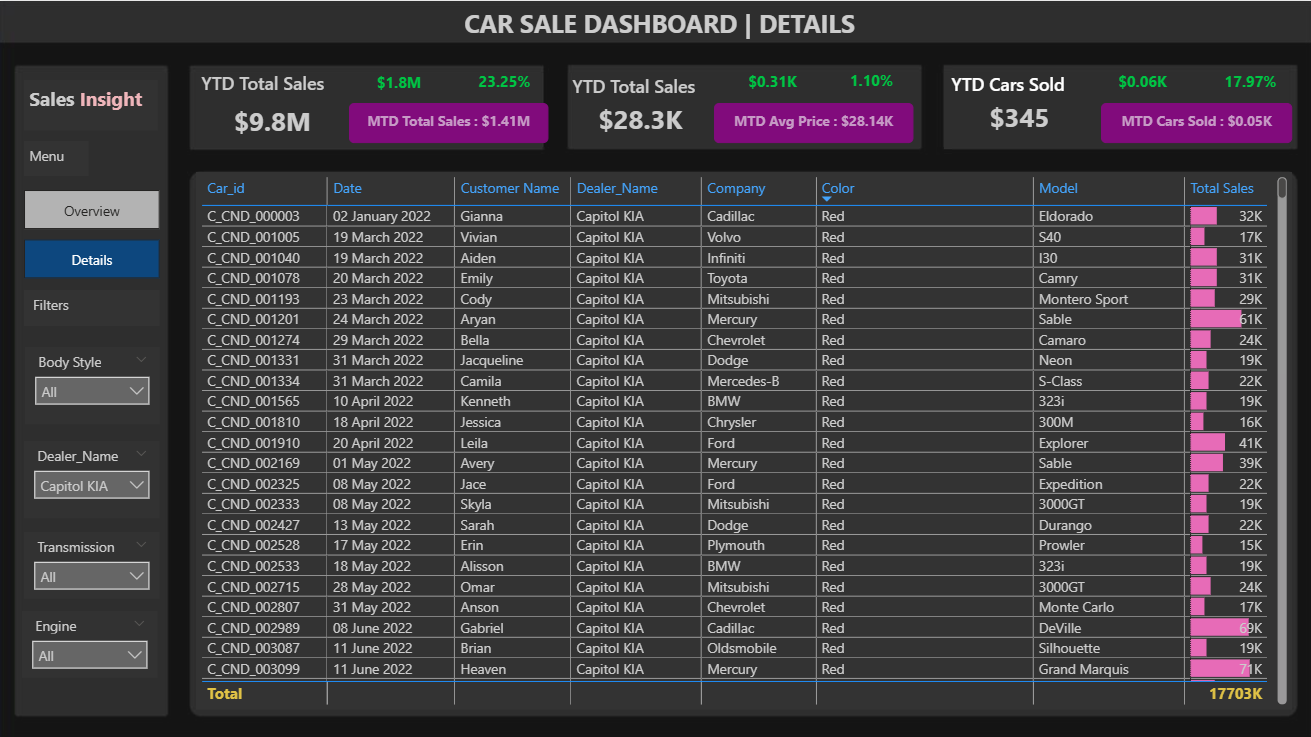

The page's visual inventory and layout, read from the dashboard file:
{"tool":"powerbi","page":{"name":"Details","canvas":[1280,720],"ordinal":1},"visuals":[{"type":"card","title":"YTD Total Sales","fields":{"Values":["car_data.YTD Total Sales"]},"box":[192.6,67.1,148.8,77.8],"z":0},{"type":"card","fields":{"Values":["car_data.Cars Sold Diff"]},"box":[1072.8,62.2,80.7,37],"z":1000},{"type":"card","fields":{"Values":["car_data.YoY Sales Growth"]},"box":[438.7,62.2,108,37],"z":2000},{"type":"card","fields":{"Values":["car_data.MTD KPI"]},"box":[341.4,99.2,193.6,38.9],"z":3000},{"type":"card","title":"YTD Total Sales","fields":{"Values":["car_data.YTD Avg Price"]},"box":[553.4,70,143,68.1],"z":4000},{"type":"card","fields":{"Values":["car_data.Sales Difference"]},"box":[341.4,63.2,97.3,36],"z":5000},{"type":"card","fields":{"Values":["car_data.YOY Avg Price Growth"]},"box":[809.2,60.3,80.7,38.9],"z":6000},{"type":"card","fields":{"Values":["car_data.MTD Avg Price KPI"]},"box":[696.4,99.2,193.6,38.9],"z":7000},{"type":"card","title":" YTD Cars Sold","fields":{"Values":["car_data.YTD Cars Sold"]},"box":[922.1,68.1,143,68.1],"z":8000},{"type":"card","fields":{"Values":["car_data.Avg Price Diff"]},"box":[712.9,62.2,80.7,37],"z":9000},{"type":"card","fields":{"Values":["car_data.YOY Car Sold Growth"]},"box":[1177.9,61.3,80.7,38.9],"z":10000},{"type":"card","fields":{"Values":["car_data.MTD Cars Sold KPI"]},"box":[1072.8,99.2,185.8,38.9],"z":11000},{"type":"textbox","box":[448.4,0,453.3,47.7],"z":12000},{"type":"slicer","fields":{"Values":["car_data.Body Style"]},"box":[26.3,336.5,131.3,74.9],"z":13000},{"type":"slicer","fields":{"Values":["car_data.Dealer_Name"]},"box":[25.3,428,132.3,74.9],"z":14000},{"type":"slicer","fields":{"Values":["car_data.Transmission"]},"box":[25.3,516.5,132.3,65.2],"z":15000},{"type":"slicer","fields":{"Values":["car_data.Engine"]},"box":[23.3,593.3,132.3,65.2],"z":16000},{"type":"tableEx","fields":{"Values":["car_data.Car_id","car_data.Date","car_data.Customer Name","car_data.Dealer_Name","car_data.Company","car_data.Color","car_data.Model","car_data.Price ($)"]},"box":[192.6,166.3,1066,523.3],"z":17000},{"type":"pageNavigator","box":[25.3,183.8,132.3,86.6],"z":18000},{"type":"textbox","box":[25.3,281.1,132.3,35],"z":19000},{"type":"textbox","box":[25.3,76.8,130.3,48.6],"z":20000},{"type":"textbox","box":[25.3,136.2,63.2,34],"z":21000}]}

Visuals, with their boxes in screenshot pixels (x1, y1, x2, y2), scaled from the page's 1280x720 canvas onto the 1311x737 screenshot:
"YTD Total Sales" card: {"left": 197, "top": 69, "right": 350, "bottom": 148}
card - car_data.Cars Sold Diff: {"left": 1099, "top": 64, "right": 1181, "bottom": 102}
card - car_data.YoY Sales Growth: {"left": 449, "top": 64, "right": 560, "bottom": 102}
card - car_data.MTD KPI: {"left": 350, "top": 102, "right": 548, "bottom": 141}
"YTD Total Sales" card: {"left": 567, "top": 72, "right": 713, "bottom": 141}
card - car_data.Sales Difference: {"left": 350, "top": 65, "right": 449, "bottom": 102}
card - car_data.YOY Avg Price Growth: {"left": 829, "top": 62, "right": 911, "bottom": 102}
card - car_data.MTD Avg Price KPI: {"left": 713, "top": 102, "right": 912, "bottom": 141}
" YTD Cars Sold" card: {"left": 944, "top": 70, "right": 1091, "bottom": 139}
card - car_data.Avg Price Diff: {"left": 730, "top": 64, "right": 813, "bottom": 102}
card - car_data.YOY Car Sold Growth: {"left": 1206, "top": 63, "right": 1289, "bottom": 103}
card - car_data.MTD Cars Sold KPI: {"left": 1099, "top": 102, "right": 1289, "bottom": 141}
textbox: {"left": 459, "top": 0, "right": 924, "bottom": 49}
slicer - car_data.Body Style: {"left": 27, "top": 344, "right": 161, "bottom": 421}
slicer - car_data.Dealer_Name: {"left": 26, "top": 438, "right": 161, "bottom": 515}
slicer - car_data.Transmission: {"left": 26, "top": 529, "right": 161, "bottom": 595}
slicer - car_data.Engine: {"left": 24, "top": 607, "right": 159, "bottom": 674}
tableEx - car_data.Car_id x car_data.Date: {"left": 197, "top": 170, "right": 1289, "bottom": 706}
pageNavigator: {"left": 26, "top": 188, "right": 161, "bottom": 277}
textbox: {"left": 26, "top": 288, "right": 161, "bottom": 324}
textbox: {"left": 26, "top": 79, "right": 159, "bottom": 128}
textbox: {"left": 26, "top": 139, "right": 91, "bottom": 174}
